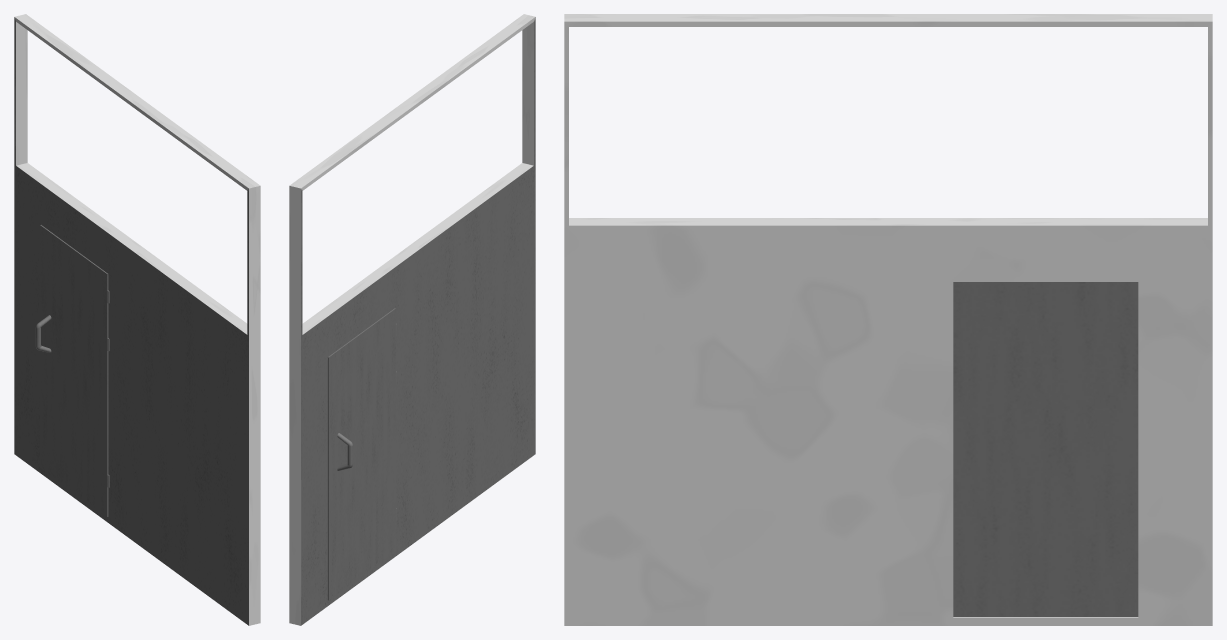
The model's file is Entrance_Face.fbx.
3 views of the same model, side by side, from view 1: azimuth 30°, elevation 25°; view 2: azimuth 150°, elevation 25°; view 3: azimuth 270°, elevation 25° (orthographic). The views are drawn at different scales.
Visible parts, largest first — view 1: Entrance_face.004, Entrance_door.004; view 2: Entrance_face.004, Entrance_door.004; view 3: Entrance_face.004, Entrance_door.004.
Part boxes in pixels (x1,y1,x2,y2): Entrance_face.004: (14, 14, 260, 625); Entrance_door.004: (35, 225, 109, 516); Entrance_face.004: (289, 14, 535, 625); Entrance_door.004: (327, 308, 396, 600); Entrance_face.004: (564, 14, 1212, 625); Entrance_door.004: (953, 282, 1138, 616).
Bounding box in the file's own units: 22.91 × 360 × 350.
2 materials, 2 textured.
